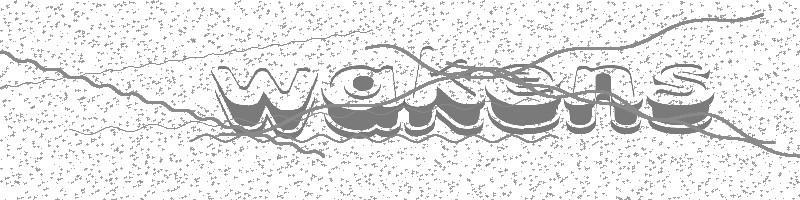a: (323, 62, 404, 138)
e: (486, 60, 567, 138)
k: (406, 41, 487, 141)
n: (566, 60, 648, 140)
s: (646, 62, 719, 139)
w: (206, 64, 321, 138)
